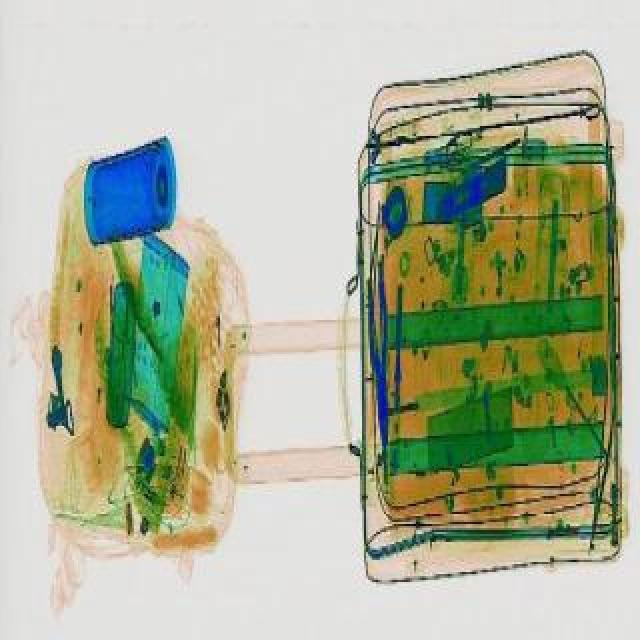wrench: (362, 258, 394, 442)
